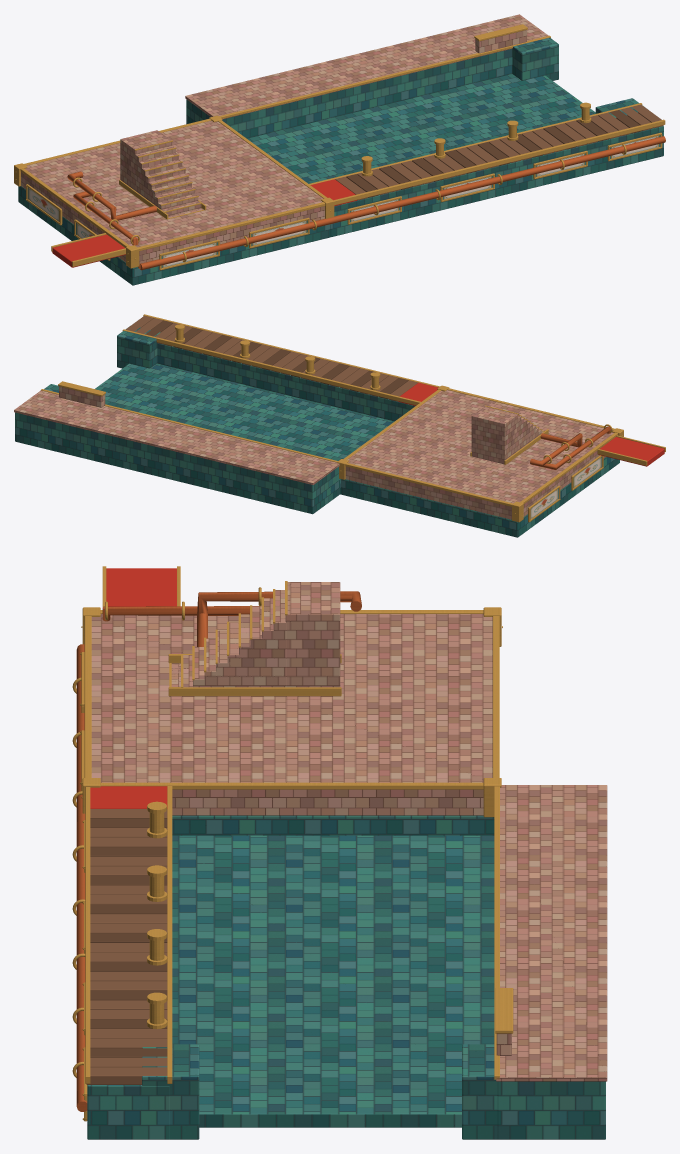
Rendered from act3_harbor_base.glb.
3 views of the same model, one above another, from view 1: azimuth 30°, elevation 25°; view 2: azimuth 150°, elevation 25°; view 3: azimuth 270°, elevation 25° (orthographic). The views are drawn at different scales.
Visible parts, largest first — view 1: SM_Act3_HarborBase_Mesh; view 2: SM_Act3_HarborBase_Mesh; view 3: SM_Act3_HarborBase_Mesh.
Part boxes in pixels (left/top/right/bottom): SM_Act3_HarborBase_Mesh: left=14, top=14, right=665, bottom=285; SM_Act3_HarborBase_Mesh: left=14, top=314, right=665, bottom=537; SM_Act3_HarborBase_Mesh: left=72, top=566, right=607, bottom=1139.
Bounding box in the file's own units: 18.97 × 2.51 × 8.35.
Materials: 8 (5 with a texture image).
